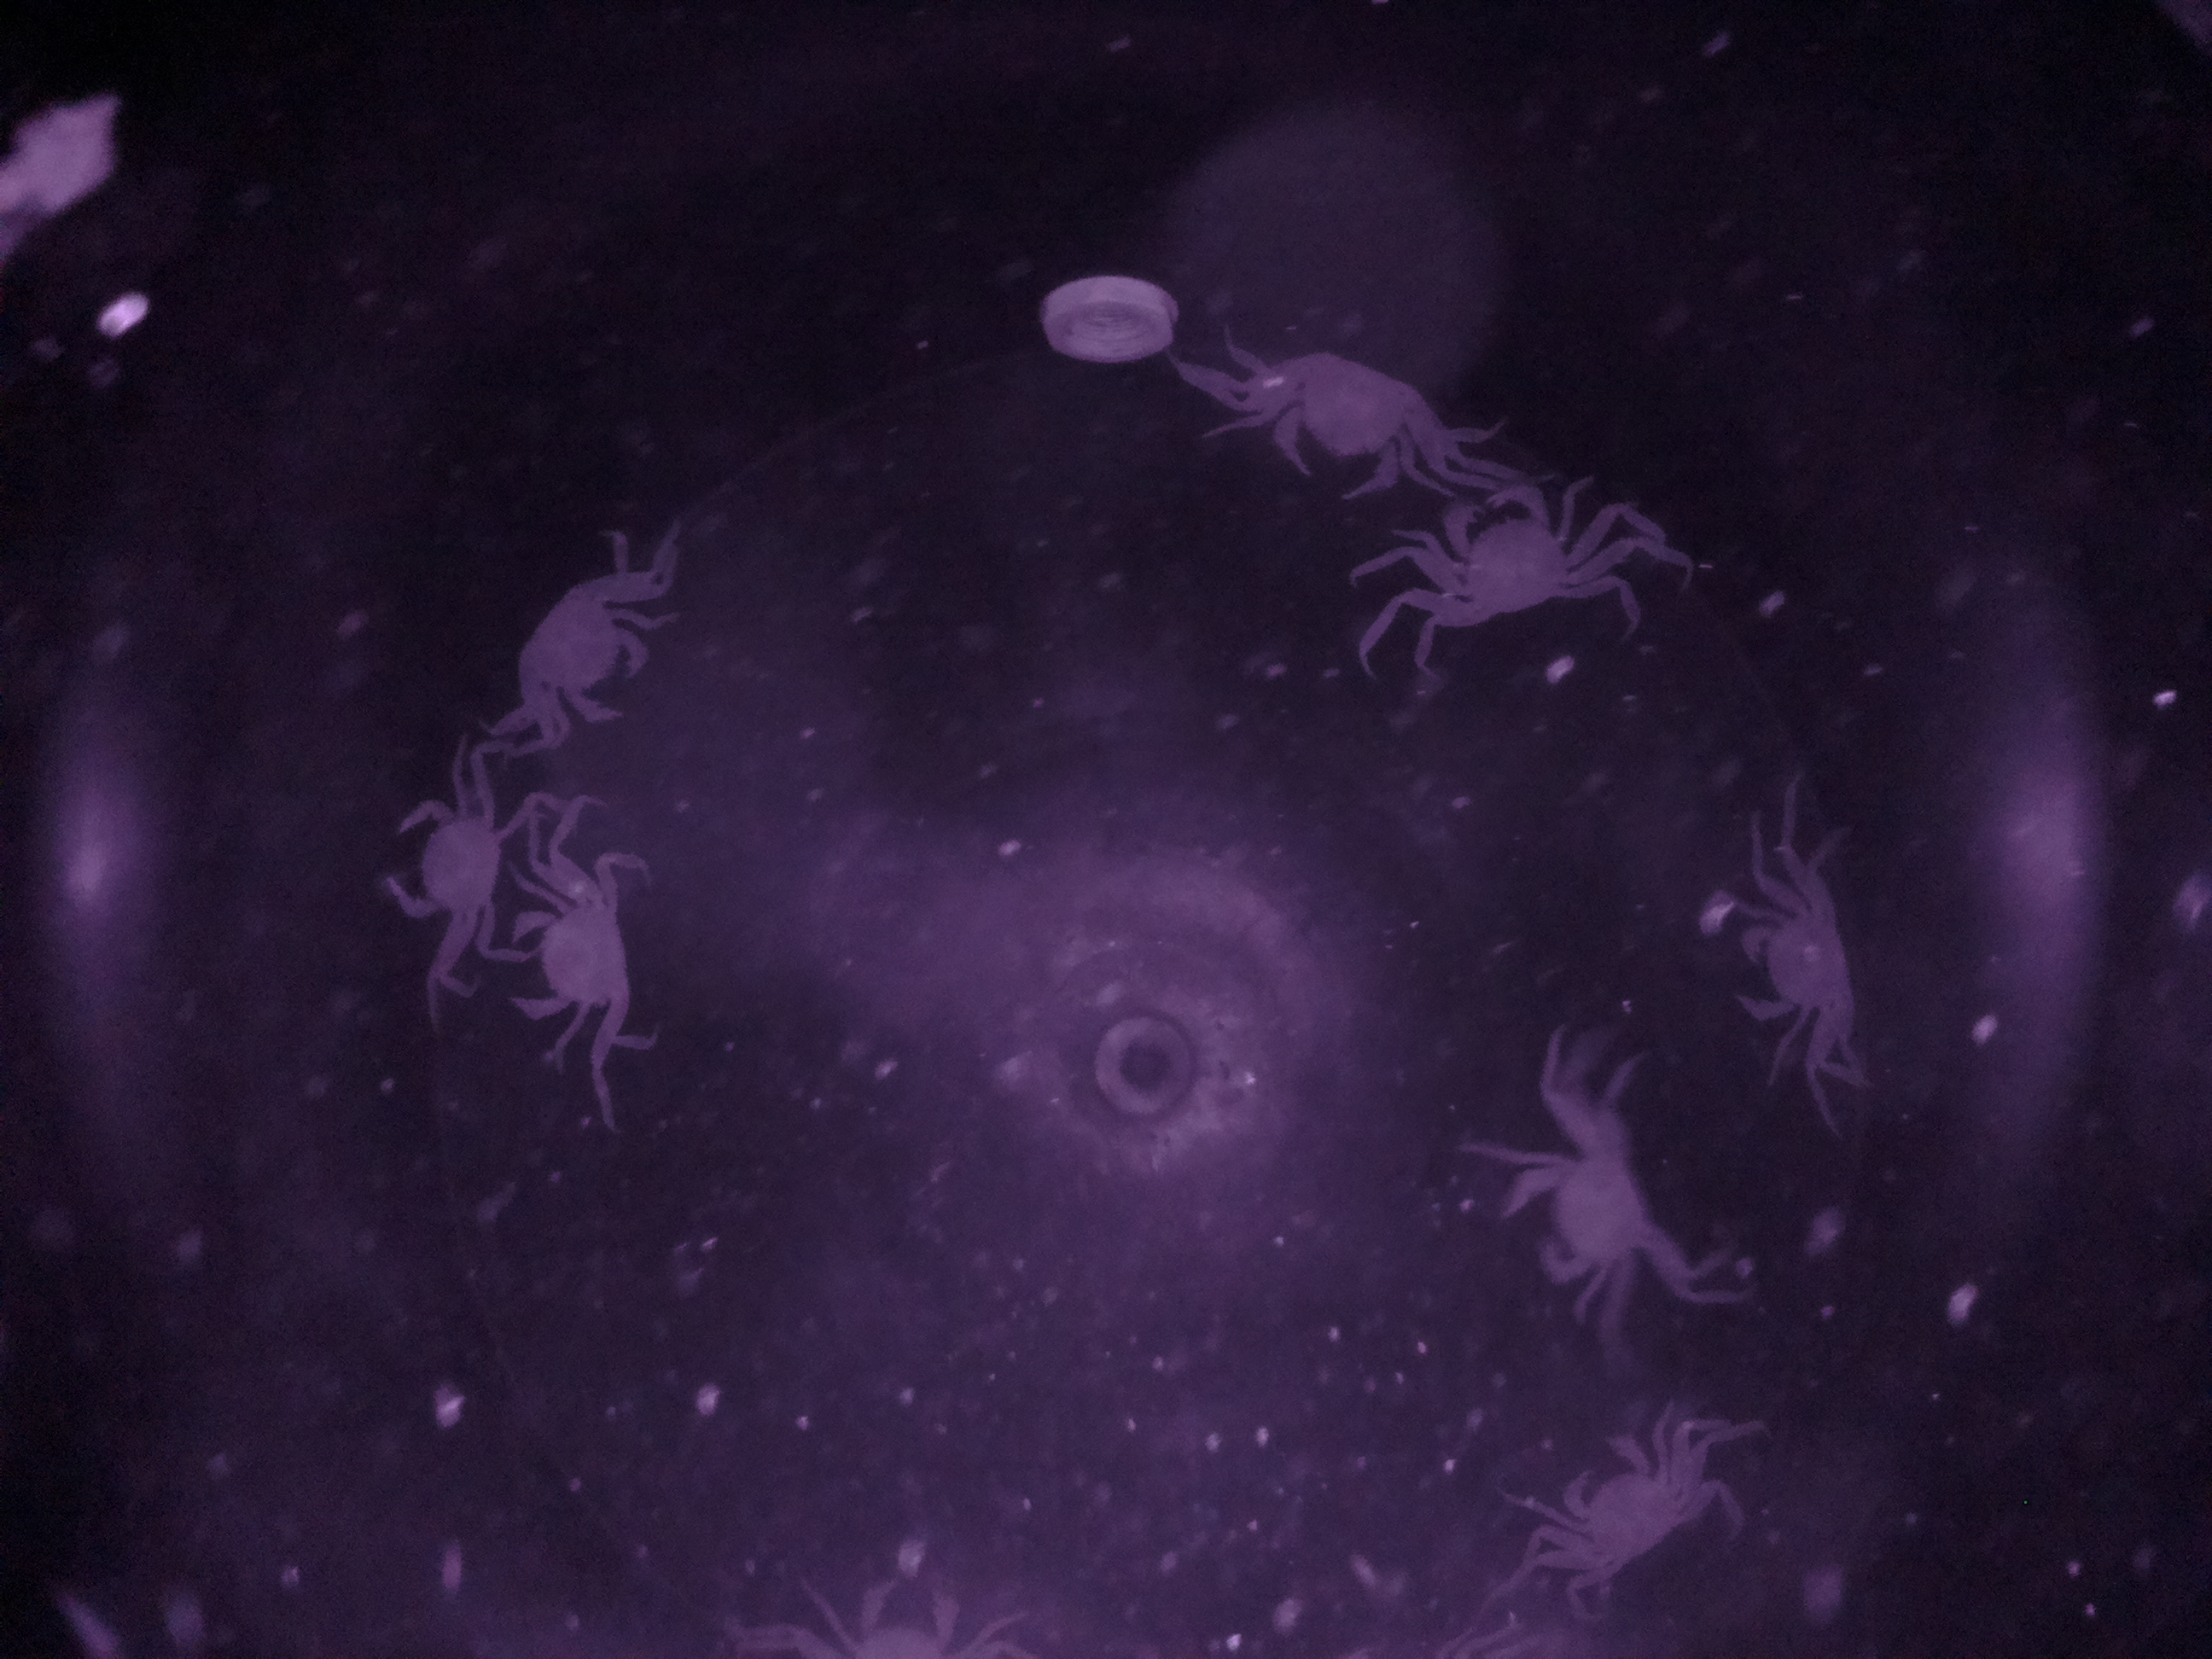Crab: (1390, 462, 1602, 650), (1244, 336, 1465, 498), (1714, 871, 1886, 1070), (1531, 1412, 1702, 1601), (505, 563, 662, 741), (380, 762, 523, 950), (502, 882, 655, 1046)
